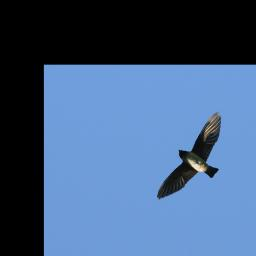Swallow: (159, 111, 224, 201)
